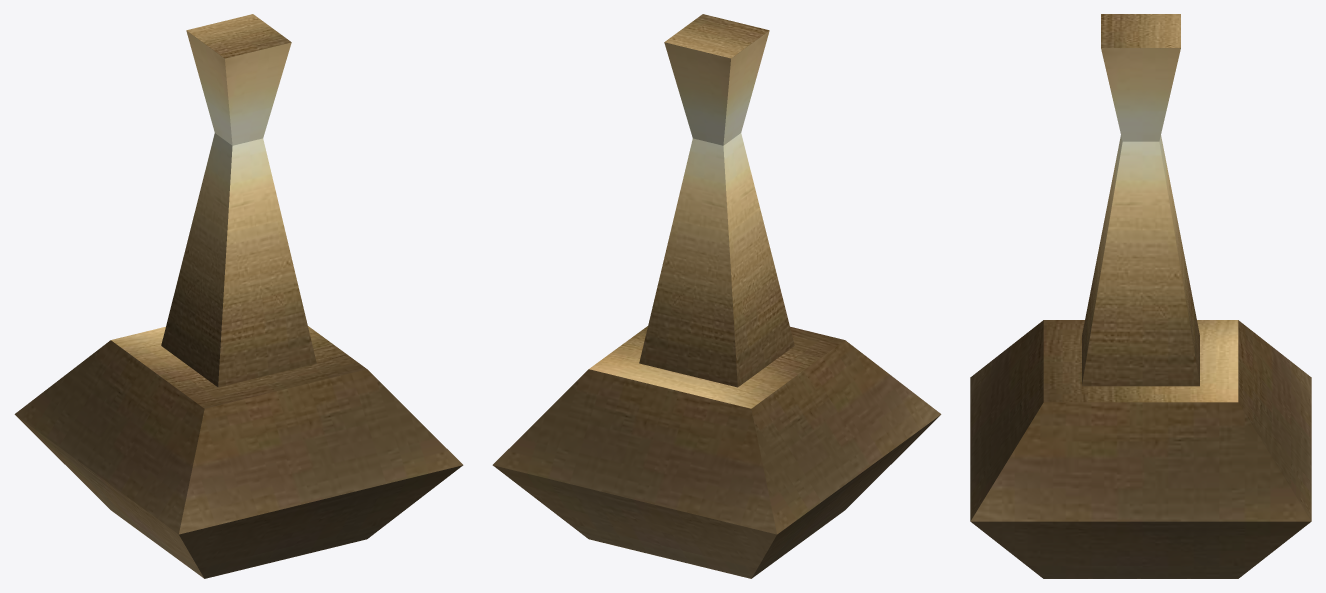
File: Light.fbx
The picture shows the model from 3 angles, left to right: view 1: azimuth 30°, elevation 25°; view 2: azimuth 150°, elevation 25°; view 3: azimuth 270°, elevation 25°; orthographic projection. The views are drawn at different scales.
Visible parts, largest first — view 1: Cube; view 2: Cube; view 3: Cube.
Boxes of the visible parts, box(x1,y1,x2,y2) form: Cube: box(14, 14, 463, 578); Cube: box(492, 14, 941, 578); Cube: box(970, 14, 1311, 578).
Size of the model in its own units: 350 by 574 by 350.
Materials: 1 (1 with a texture image).
